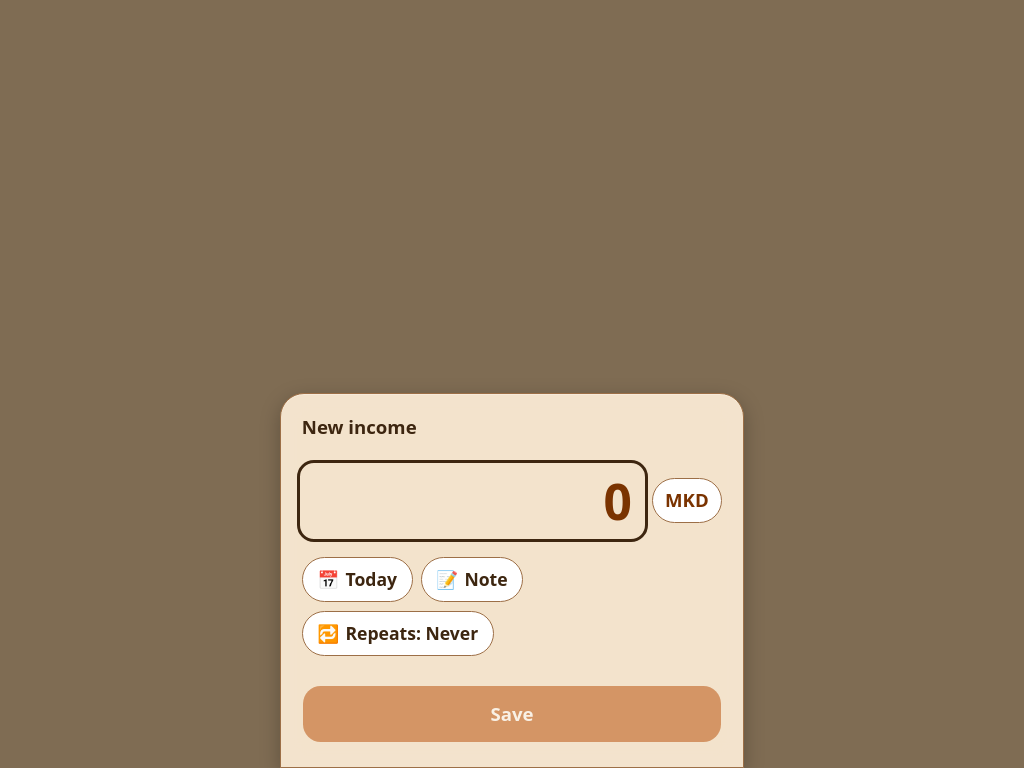
Scenario: PersonalIncomeSheet, refused saves › shows the translated message for PERSONAL_ENTRY_AMOUNT_NOT_POSITIVE above Save
This screenshot has width=1024, height=768.
Type "65000" into the field named "Amount" at (473,501), box [300,463,646,539]
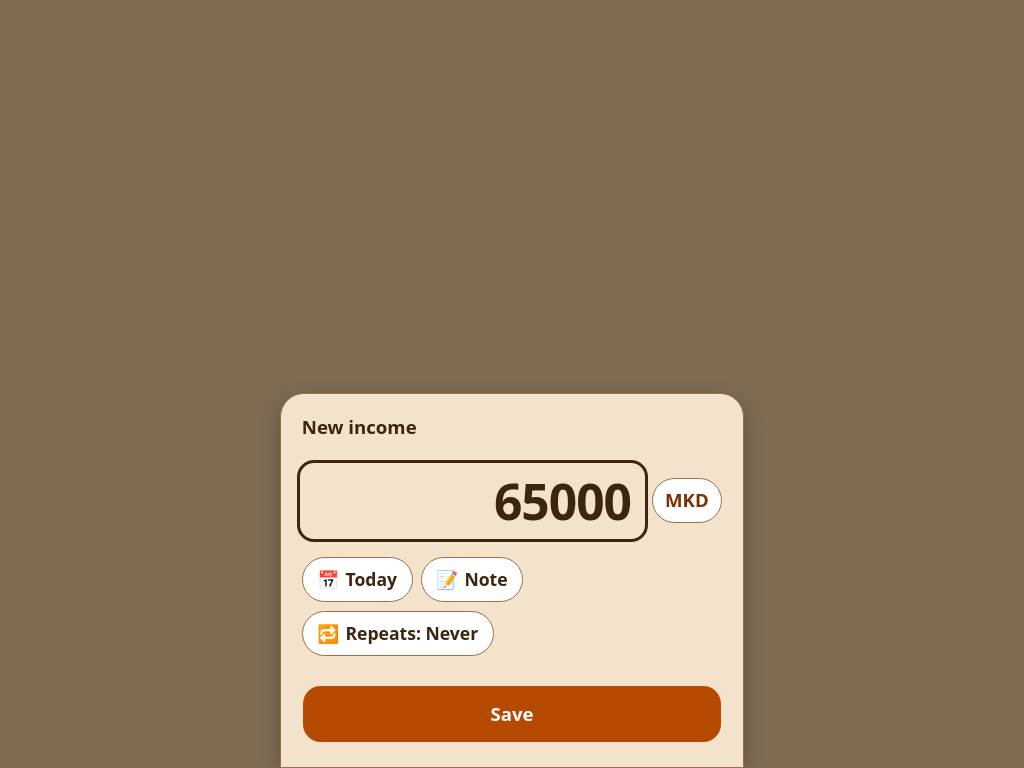
Click the button "📝 Note" at (472,580), box [421,557,523,602]
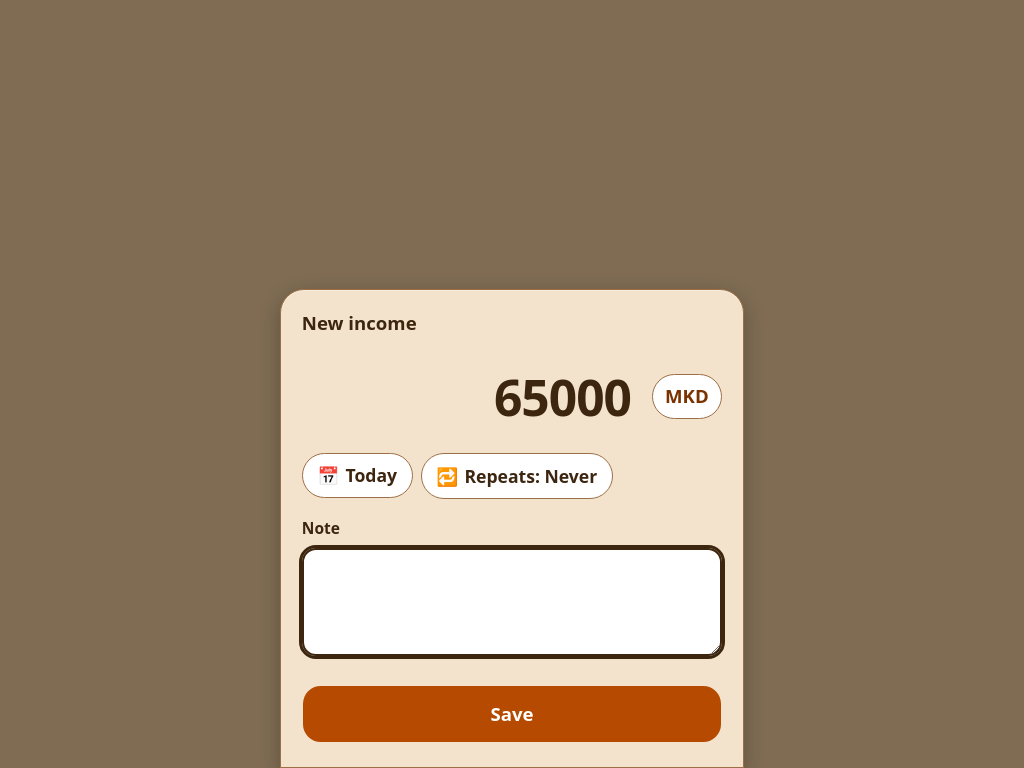
Type "Salary" into the text box labelled "Note" at (512,602), box [302,548,722,656]
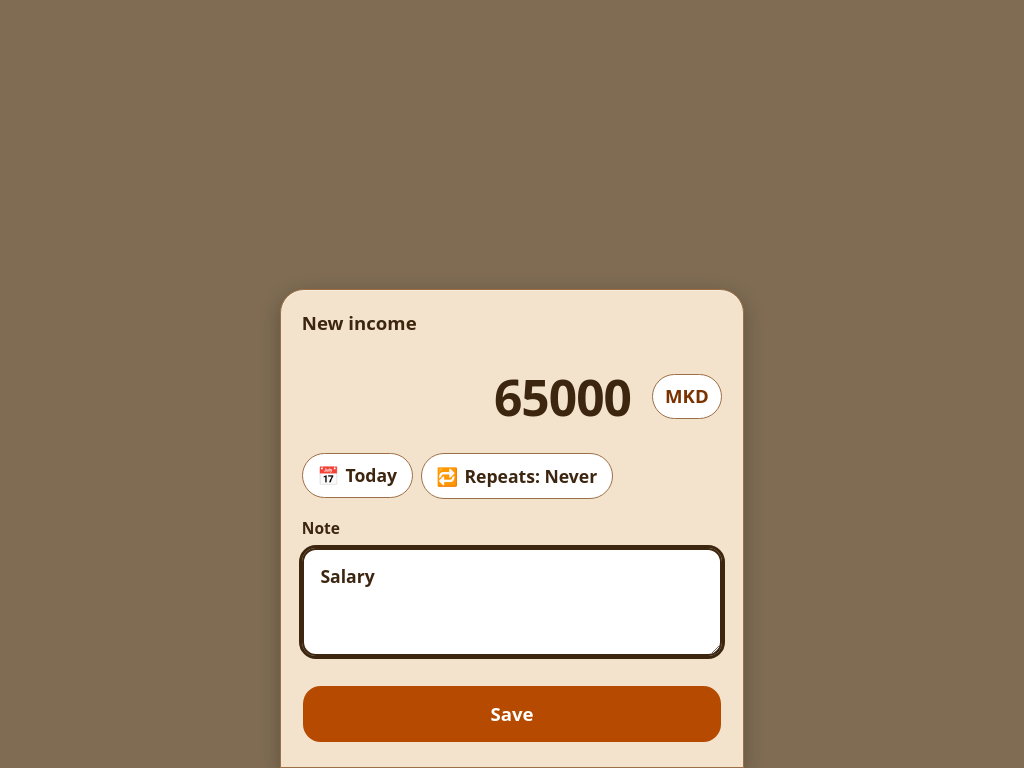
Click the button "Save" at (512,714), box [302,685,722,743]
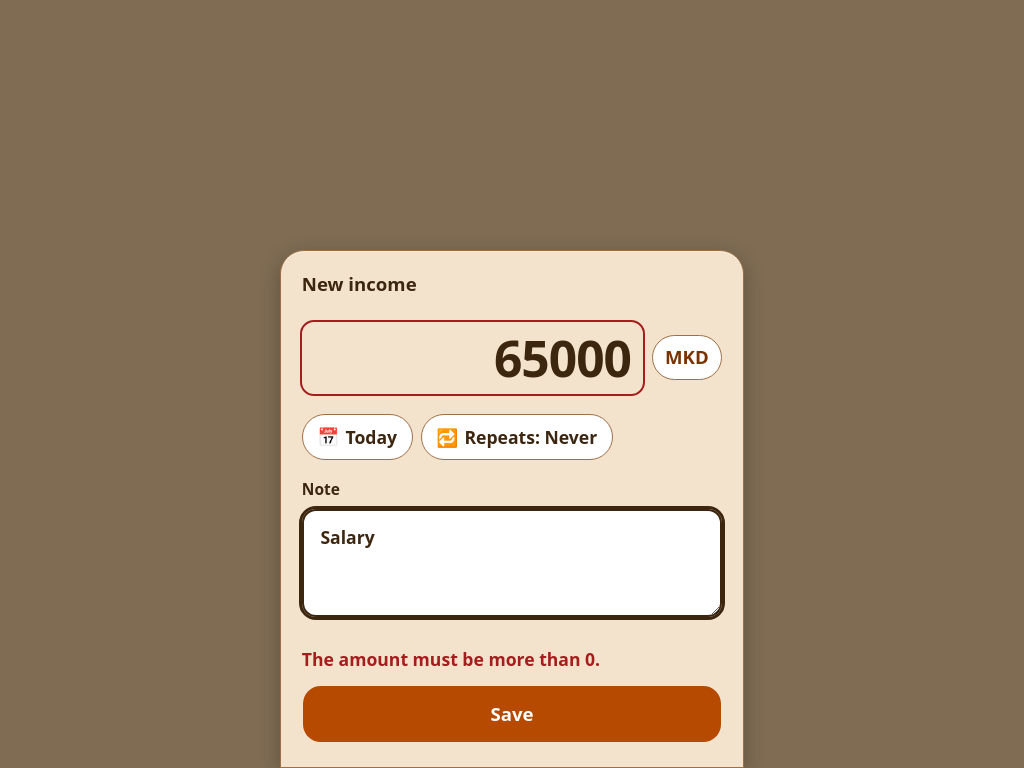
Result: the message reads "The amount must be more than 0." at [302,647,600,671]
